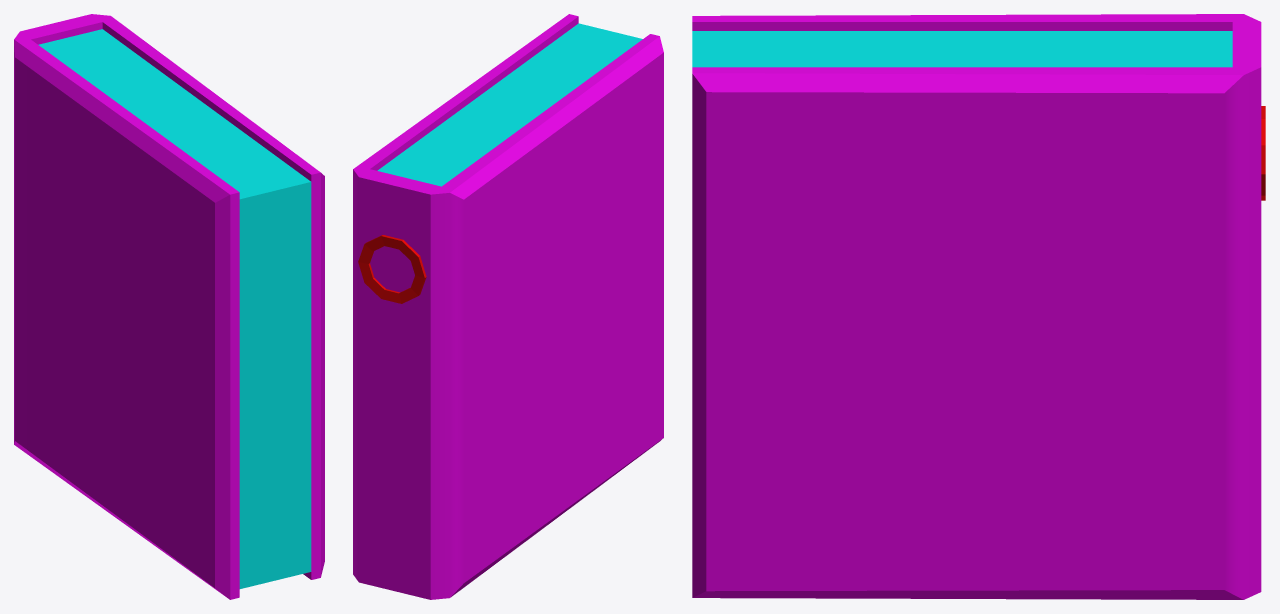
The model's file is Book_C.fbx.
3 views of the same model, side by side, from view 1: azimuth 30°, elevation 25°; view 2: azimuth 150°, elevation 25°; view 3: azimuth 270°, elevation 25° (orthographic). The views are drawn at different scales.
Visible parts, largest first — view 1: Book_C; view 2: Book_C; view 3: Book_C.
Part boxes in pixels (box(x1,y1,x2,y2)): Book_C: box(14, 14, 324, 599); Book_C: box(353, 14, 663, 599); Book_C: box(692, 14, 1265, 599).
Size of the model in its own units: 9.76 by 34.46 by 34.13.
